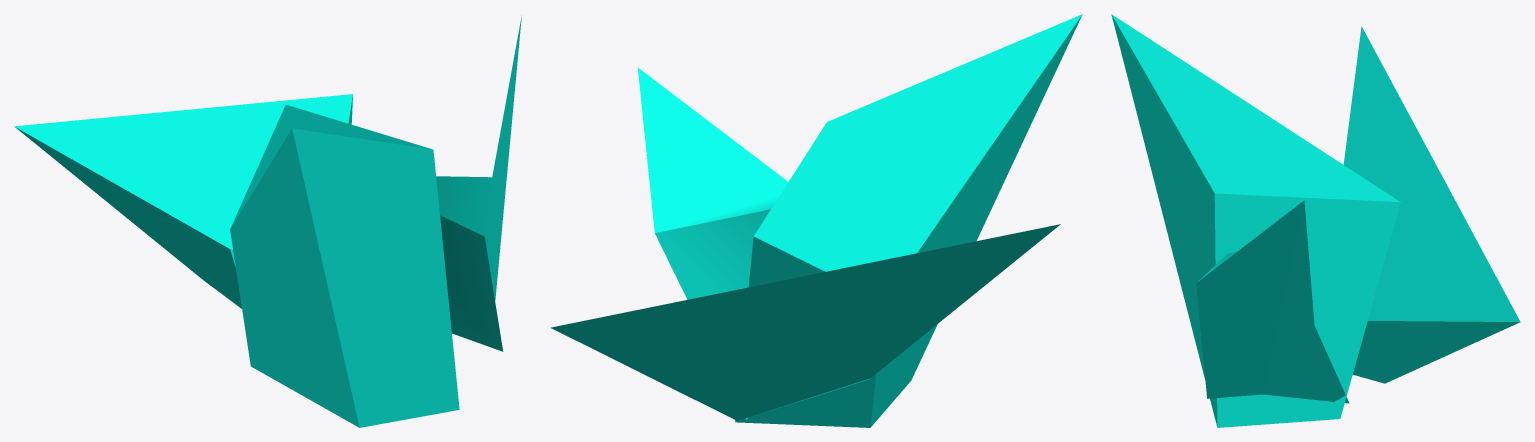
The model's file is crystal_test.fbx.
The picture shows the model from 3 angles, left to right: view 1: azimuth 30°, elevation 25°; view 2: azimuth 150°, elevation 25°; view 3: azimuth 270°, elevation 25°; orthographic projection. The views are drawn at different scales.
Visible parts, largest first — view 1: Cube; view 2: Cube; view 3: Cube.
Boxes of the visible parts, x1,y1,x2,y2 form: Cube: (14,15,521,427); Cube: (550,14,1082,427); Cube: (1111,14,1520,427).
Size of the model in its own units: 706 by 548 by 635.
